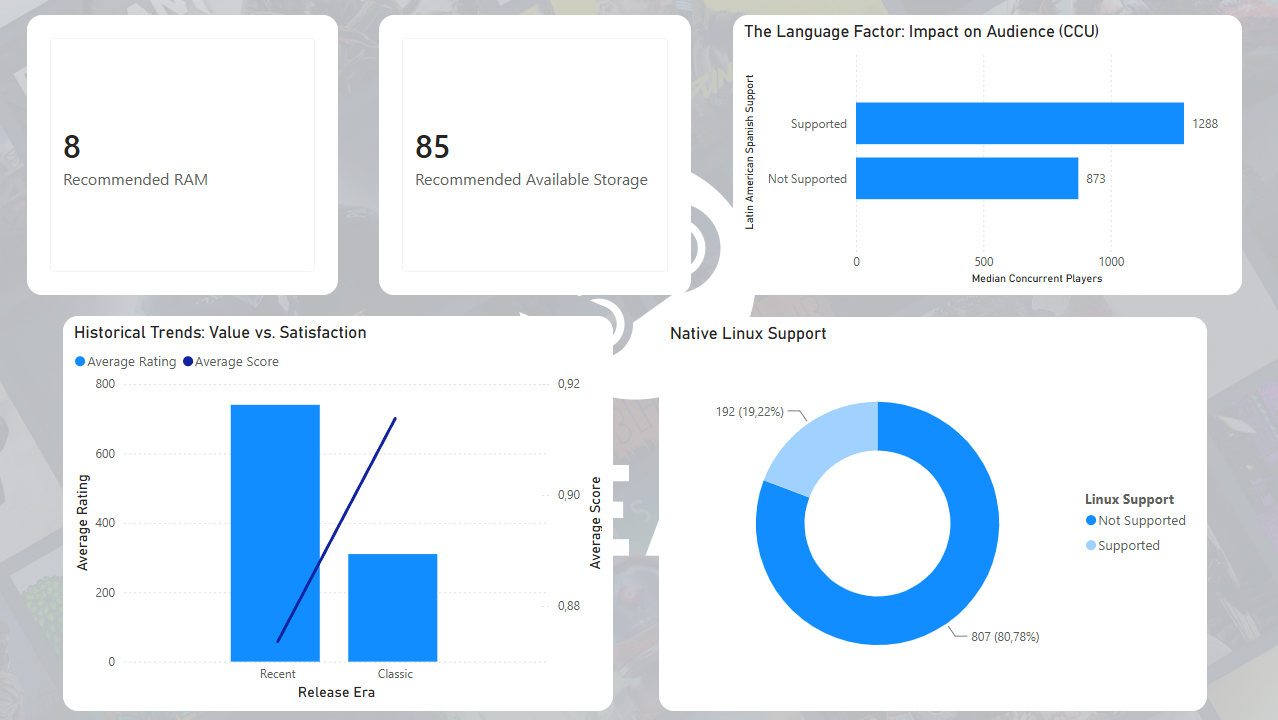

The dashboard page shown, as its layout file describes it:
{"tool":"powerbi","page":{"name":"Página 3","canvas":[1280,720],"ordinal":2},"visuals":[{"type":"cardVisual","fields":{"Data":["juegosSteam_limpio.RAM_Recomendada_P90"]},"box":[28.8,15,311.2,280],"z":0},{"type":"cardVisual","fields":{"Data":["juegosSteam_limpio.Storage_Recomendado_P90"]},"box":[381.2,15,311.2,280],"z":1000},{"type":"lineClusteredColumnComboChart","title":"Historical Trends: Value vs. Satisfaction","fields":{"Y":["Median(juegosSteam_limpio.price_uyu)"],"Y2":["Median(juegosSteam_limpio.review_score)"],"Category":["juegosSteam_limpio.era"]},"box":[65,316.2,550,395],"z":2000},{"type":"donutChart","title":"Native Linux Support","fields":{"Y":["CountNonNull(juegosSteam_limpio.appid)"],"Category":["juegosSteam_limpio.Soporte_Linux_Limpio"]},"box":[661.1,316.7,547.8,394.4],"z":3000},{"type":"clusteredBarChart","title":"The Language Factor: Impact on Audience (CCU)","fields":{"Y":["Median(juegosSteam_limpio.ccu)"],"Category":["juegosSteam_limpio.Soporte_Espanol"]},"box":[735,15,508.8,280],"z":4000}]}

Visuals, with their boxes in screenshot pixels (x1, y1, x2, y2), scaled from the page's 1280x720 canvas onto the 1278x720 screenshot:
cardVisual - juegosSteam_limpio.RAM_Recomendada_P90: 29, 15, 339, 295
cardVisual - juegosSteam_limpio.Storage_Recomendado_P90: 381, 15, 691, 295
"Historical Trends: Value vs. Satisfaction" lineClusteredColumnComboChart: 65, 316, 614, 711
"Native Linux Support" donutChart: 660, 317, 1207, 711
"The Language Factor: Impact on Audience (CCU)" clusteredBarChart: 734, 15, 1242, 295
